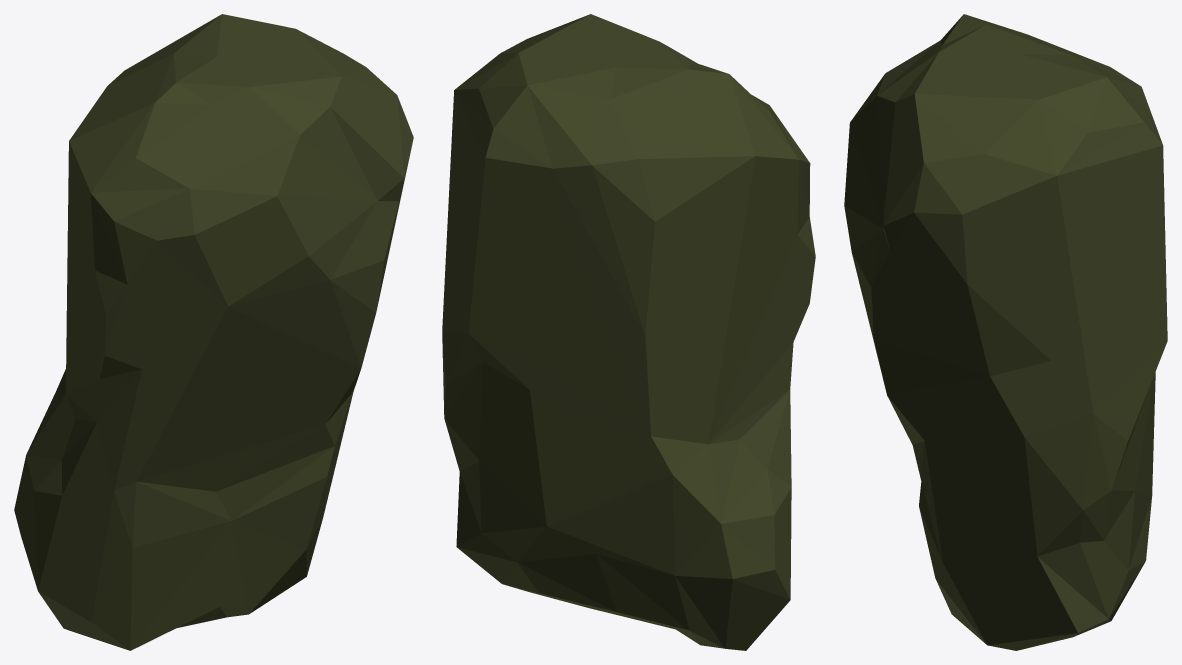
File: SM_small_rock_18.fbx
The picture shows the model from 3 angles, left to right: view 1: azimuth 30°, elevation 25°; view 2: azimuth 150°, elevation 25°; view 3: azimuth 270°, elevation 25°; orthographic projection. The views are drawn at different scales.
Visible parts, largest first — view 1: small_rock_18; view 2: small_rock_18; view 3: small_rock_18.
Part boxes in pixels (<box>): small_rock_18: <box>14,14,413,650</box>; small_rock_18: <box>442,14,815,650</box>; small_rock_18: <box>844,14,1167,650</box>.
Bounding box in the file's own units: 11.91 × 18.49 × 9.43.
